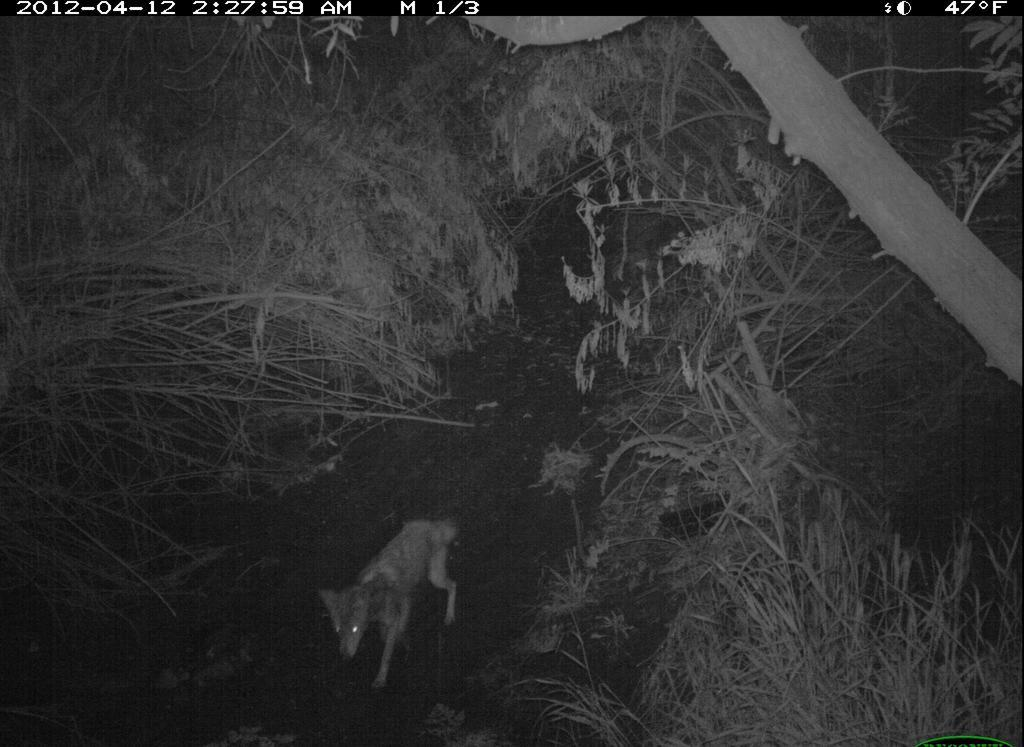coyote: (313, 507, 466, 694)
